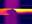Hotspot: (14, 8, 31, 13)
